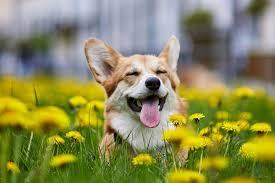Dog: (83, 31, 188, 129)
